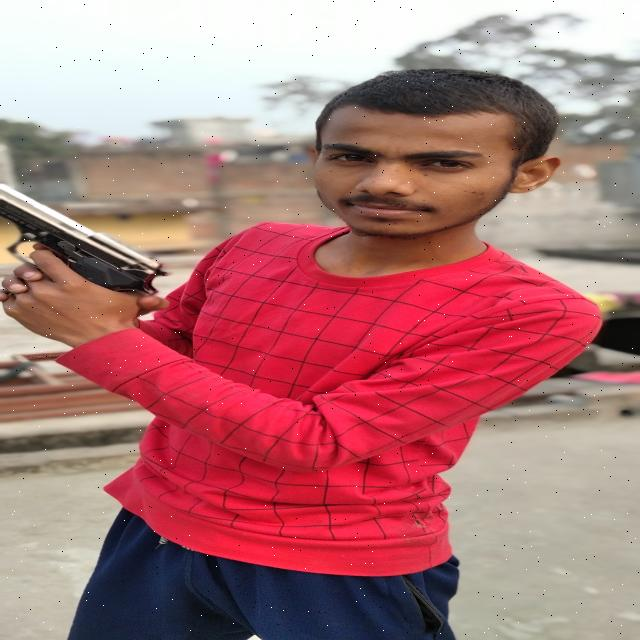gun: (0, 162, 181, 346)
